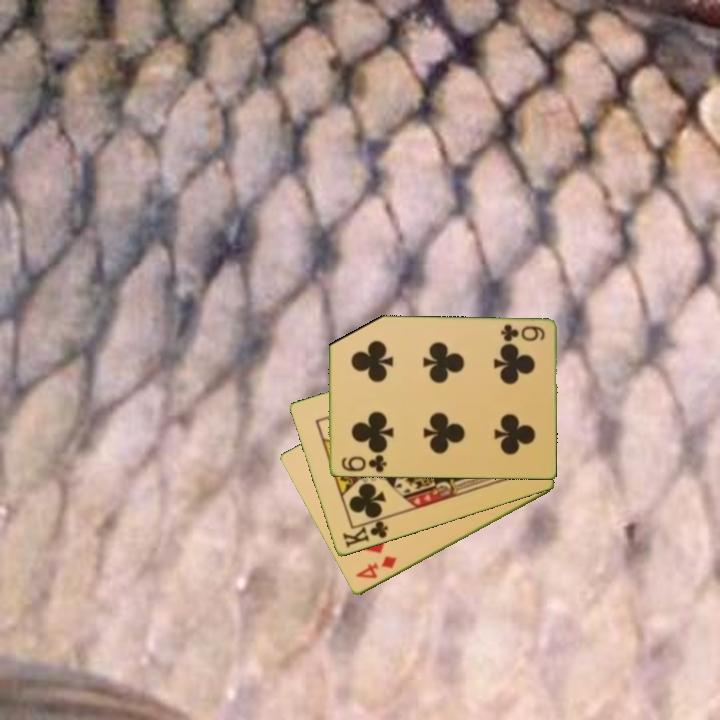4d: (352, 552, 400, 582)
6c: (338, 452, 389, 475), (497, 321, 547, 344)
Kc: (338, 515, 391, 551)
